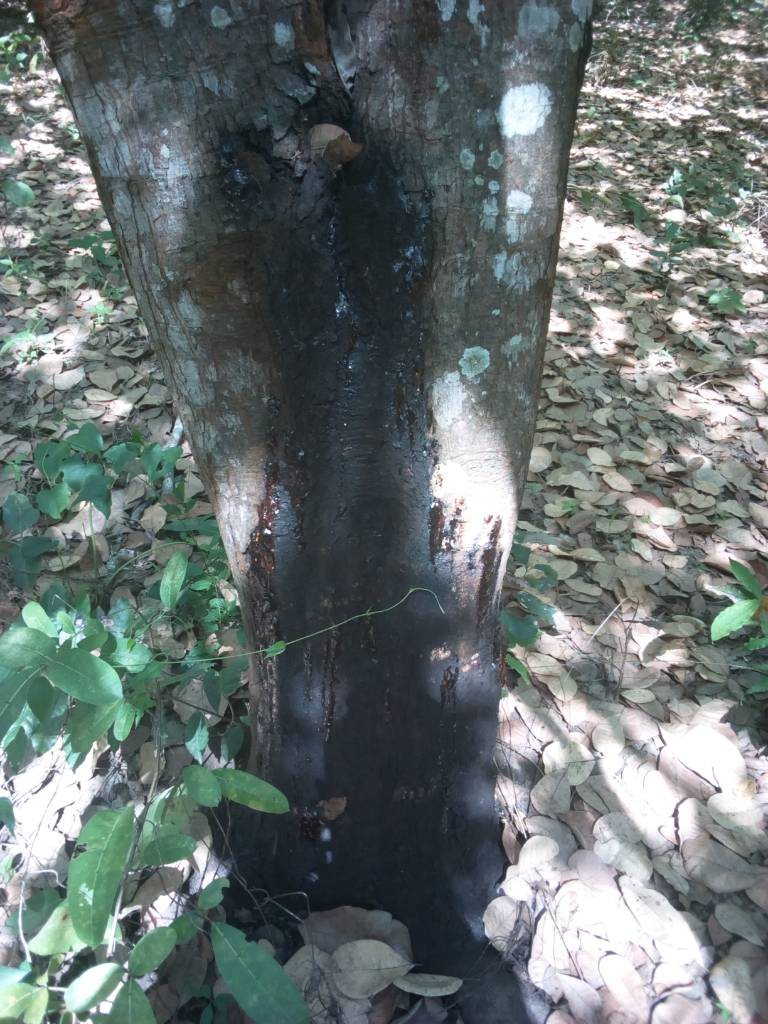Gommose: (238, 113, 511, 897)
